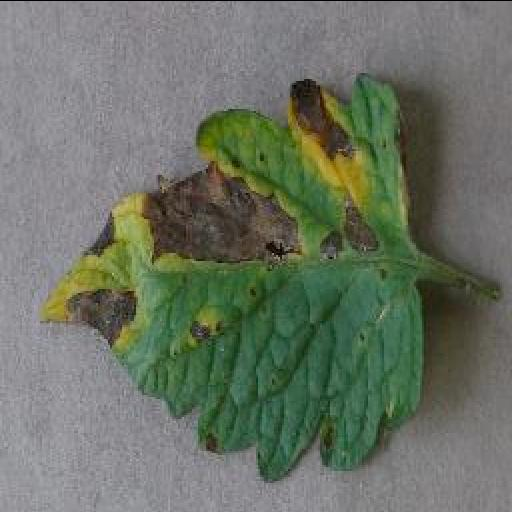disease_tomato: (36, 69, 426, 485)
